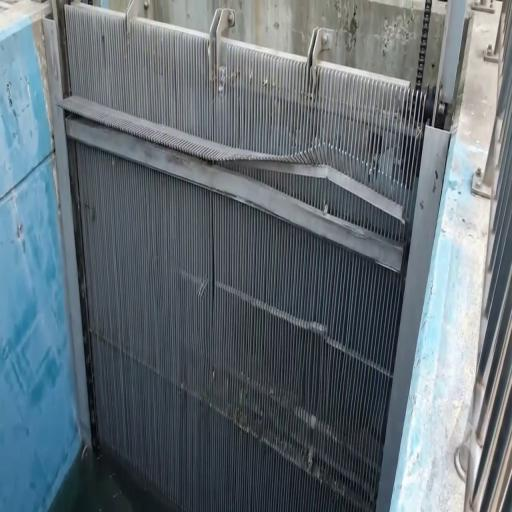rake_broken: (202, 141, 413, 232)
